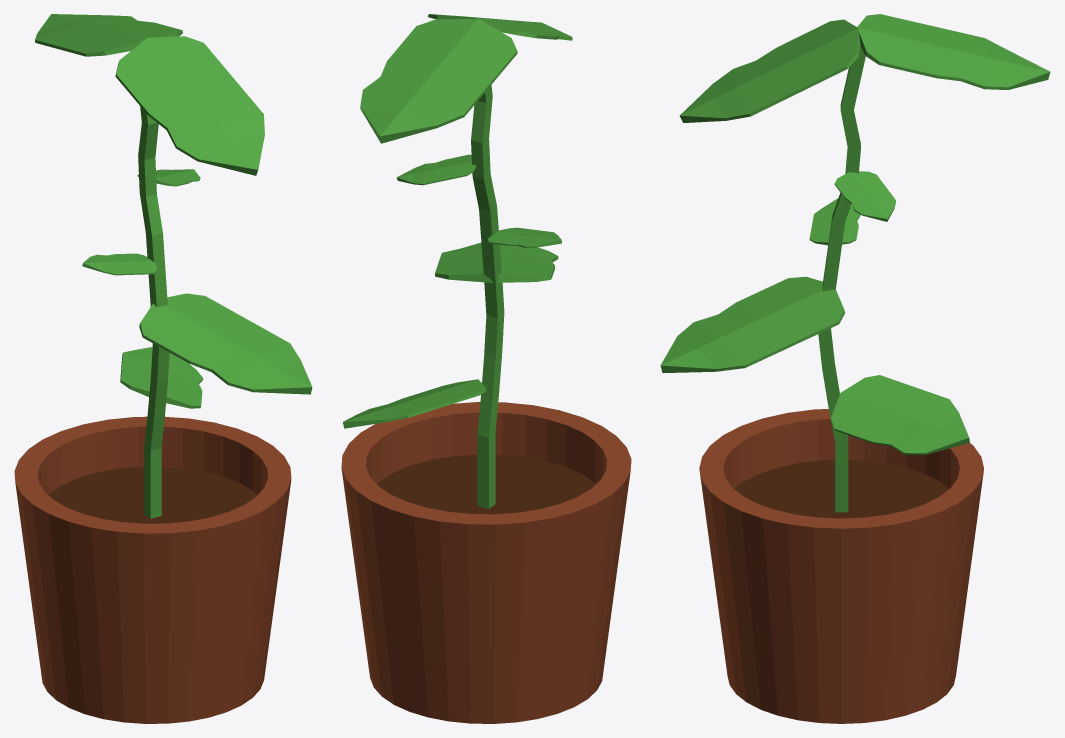
The model's file is Plant.fbx.
3 views of the same model, side by side, from view 1: azimuth 30°, elevation 25°; view 2: azimuth 150°, elevation 25°; view 3: azimuth 270°, elevation 25° (orthographic). The views are drawn at different scales.
Visible parts, largest first — view 1: Cylinder, Plane.005, Plane.003, Cube.004, Plane, Plane.004, Plane.002, Plane.001; view 2: Cylinder, Plane, Cube.004, Plane.003, Plane.004, Plane.001, Plane.005, Plane.002; view 3: Cylinder, Plane.003, Plane.005, Plane, Plane.004, Cube.004, Plane.001, Plane.002.
Boxes of the visible parts, box(x1,y1,x2,y2) form: Cylinder: box(14, 416, 291, 723); Plane.005: box(115, 36, 264, 175); Plane.003: box(139, 293, 312, 394); Cube.004: box(138, 106, 169, 518); Plane: box(35, 14, 182, 56); Plane.004: box(120, 347, 203, 408); Plane.002: box(82, 253, 157, 275); Plane.001: box(137, 169, 200, 186); Cylinder: box(341, 402, 631, 723); Plane: box(360, 19, 517, 143); Cube.004: box(471, 85, 504, 508); Plane.003: box(435, 242, 558, 282); Plane.004: box(343, 379, 486, 428); Plane.001: box(396, 154, 476, 185); Plane.005: box(428, 14, 572, 40); Plane.002: box(488, 227, 561, 247); Cylinder: box(699, 409, 983, 723); Plane.003: box(660, 276, 844, 372); Plane.005: box(679, 19, 860, 122); Plane: box(857, 14, 1050, 89); Plane.004: box(831, 375, 969, 455); Cube.004: box(818, 46, 865, 512); Plane.001: box(834, 171, 896, 221); Plane.002: box(809, 198, 860, 245).
Bounding box in the file's own units: 125 × 313 × 171.
